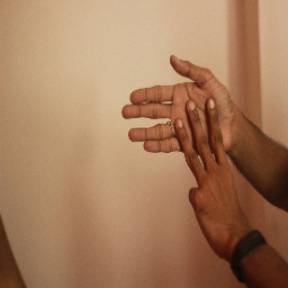M: (118, 49, 240, 197)
